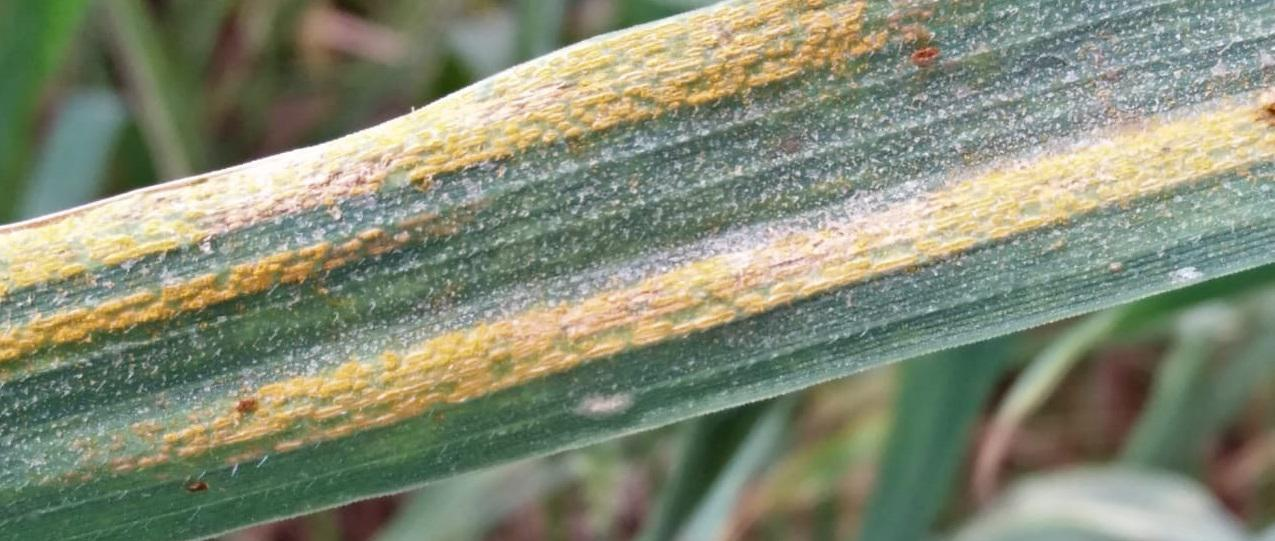Wheat: (372, 95, 1272, 423), (0, 213, 408, 378), (588, 3, 913, 141)
